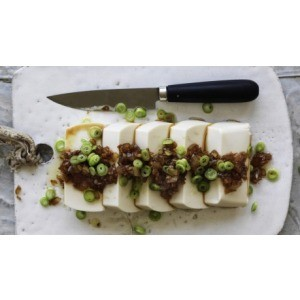tofu_brain food: (203, 117, 258, 203), (58, 125, 101, 211), (135, 122, 164, 211), (170, 121, 197, 213), (105, 124, 130, 211)
